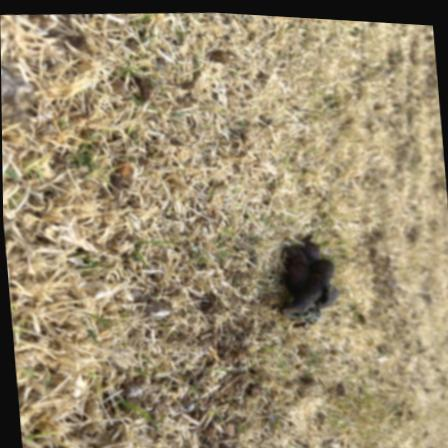dog-poop: (274, 233, 345, 322)
